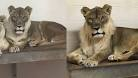lion: (66, 4, 138, 69)
